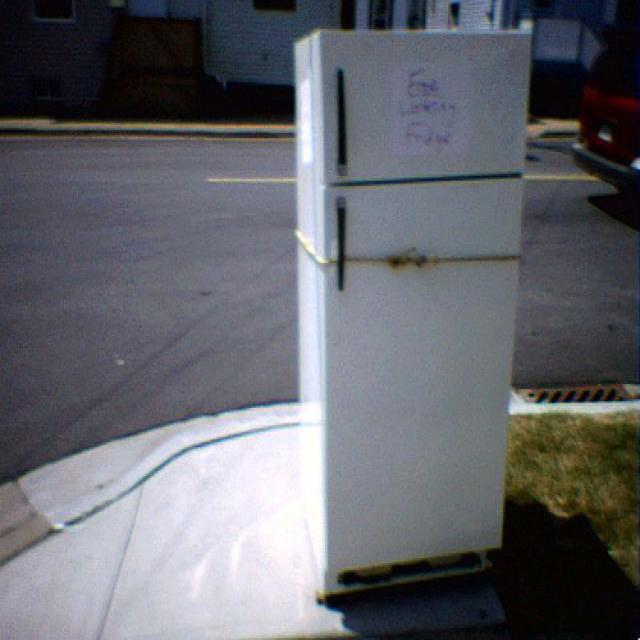Vehicle: (572, 17, 640, 200)
